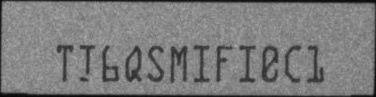0: (260, 45, 279, 83)
1: (306, 45, 325, 83)
6: (101, 43, 119, 83)
C: (284, 42, 301, 82)
F: (215, 44, 234, 84)
I: (192, 43, 210, 82), (239, 45, 257, 84), (79, 42, 95, 83)
M: (170, 45, 189, 84)
Q: (124, 45, 144, 83)
S: (146, 44, 163, 82)
T: (56, 44, 74, 83)
